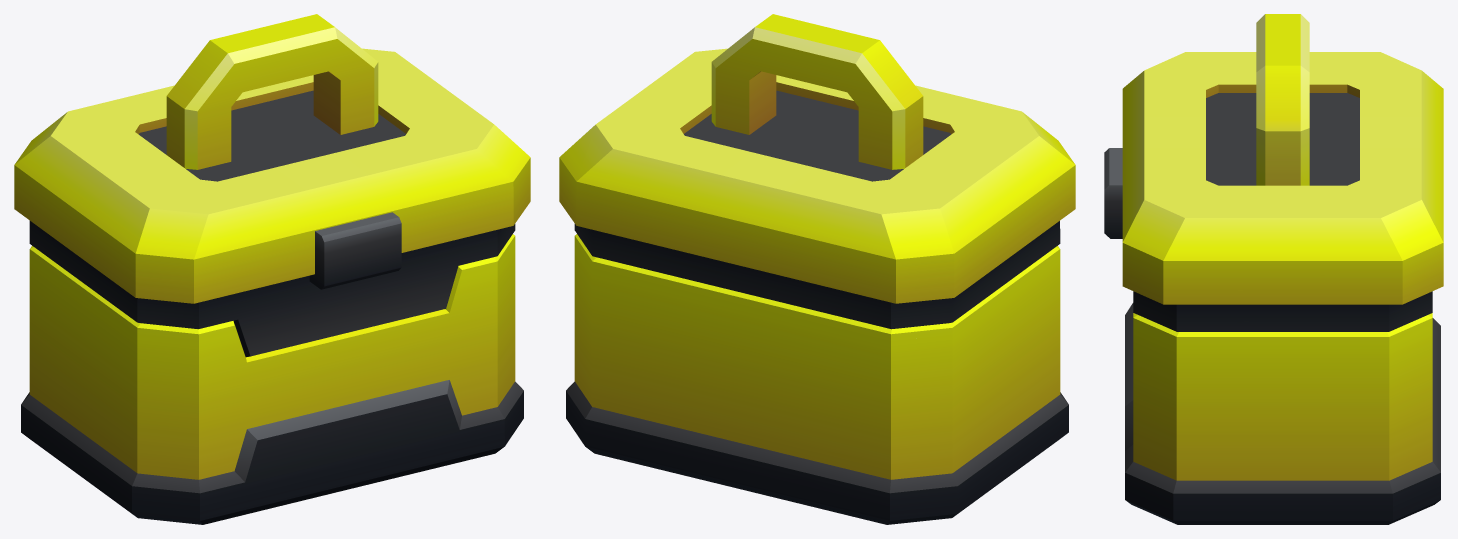
The model's file is SM_Tool_Chest_2.fbx.
3 renders of one model, left to right at view 1: azimuth 30°, elevation 25°; view 2: azimuth 150°, elevation 25°; view 3: azimuth 270°, elevation 25°, orthographic.
Visible parts, largest first — view 1: Cube.001; view 2: Cube.001; view 3: Cube.001.
Part boxes in pixels (x1,y1,x2,y2): Cube.001: [14, 14, 530, 524]; Cube.001: [559, 14, 1075, 524]; Cube.001: [1104, 14, 1443, 524].
Bounding box in the file's own units: 60.73 × 58.69 × 45.71.
